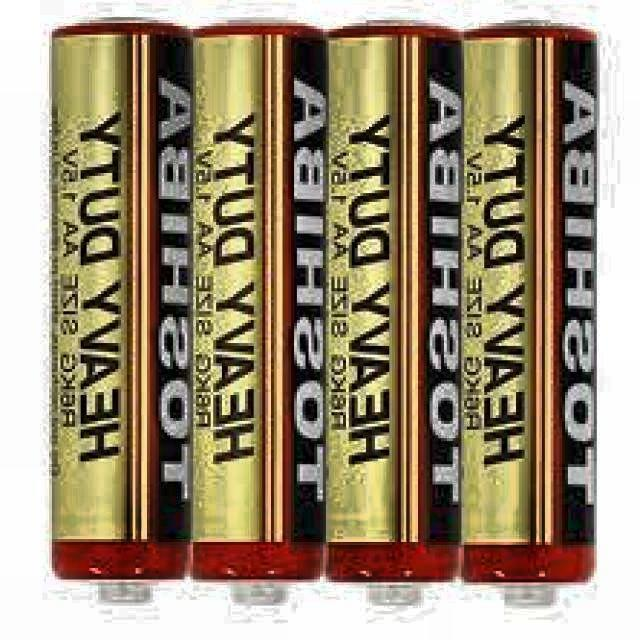battery: (52, 21, 195, 609), (322, 21, 464, 608), (192, 18, 327, 606)
